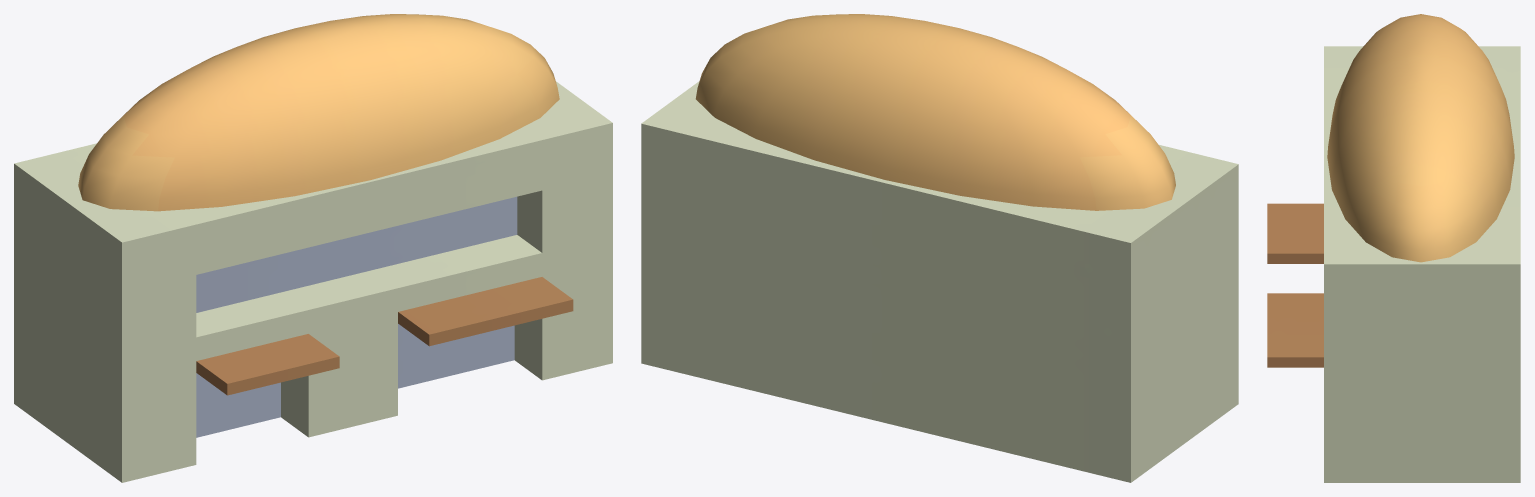
Rendered from PR_Building_03.fbx.
The picture shows the model from 3 angles, left to right: view 1: azimuth 30°, elevation 25°; view 2: azimuth 150°, elevation 25°; view 3: azimuth 270°, elevation 25°; orthographic projection. The views are drawn at different scales.
Visible parts, largest first — view 1: PR_Building_3; view 2: PR_Building_3; view 3: PR_Building_3.
Part boxes in pixels (x1=…): PR_Building_3: x1=14, y1=14, x2=612, y2=482; PR_Building_3: x1=641, y1=14, x2=1238, y2=482; PR_Building_3: x1=1267, y1=14, x2=1520, y2=482.
Bounding box in the file's own units: 1528 × 1042 × 750.
Materials: 1 (1 with a texture image).
